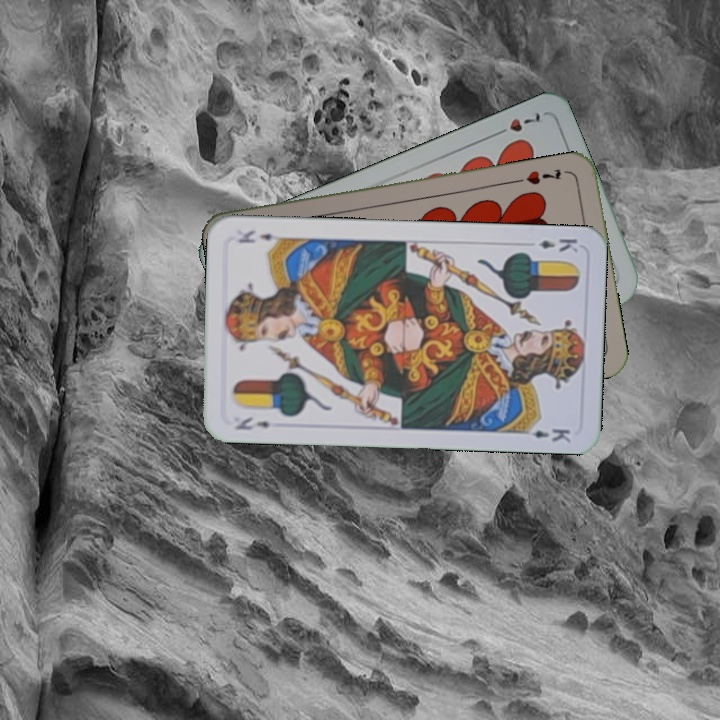EK: (535, 234, 581, 255), (231, 413, 273, 433)
H7: (489, 108, 543, 140), (522, 164, 564, 188)
